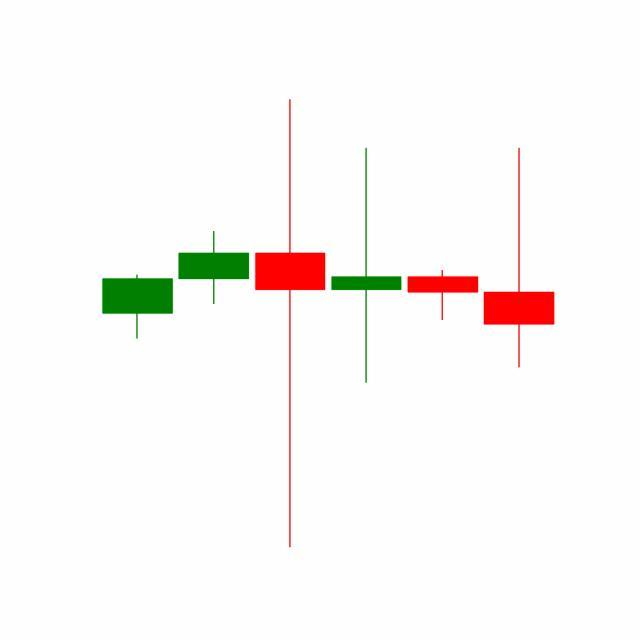Dragonfly Doji: (404, 271, 482, 322)
